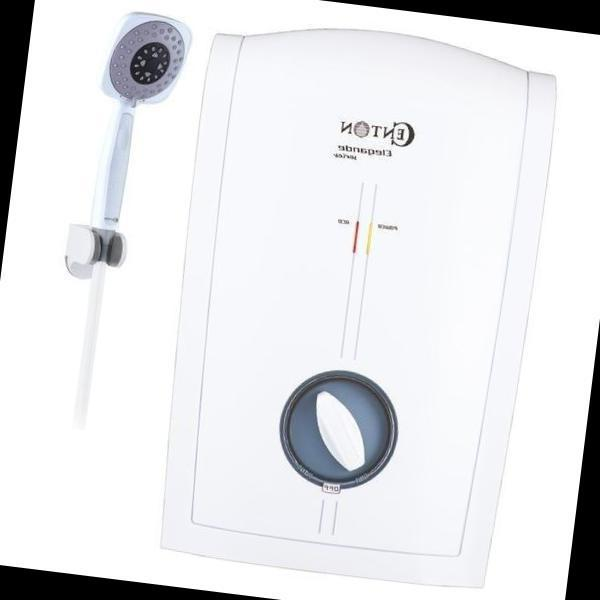Ducha: (33, 0, 223, 479)
